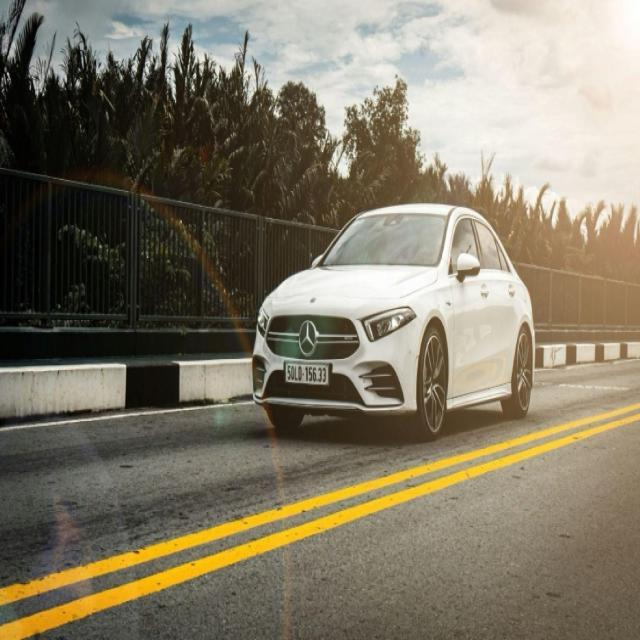pickup: (250, 200, 536, 440)
